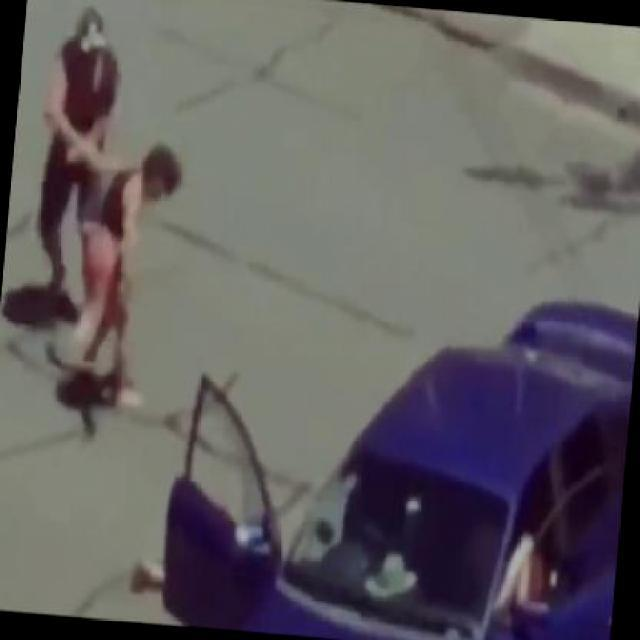fight: (19, 2, 195, 410)
